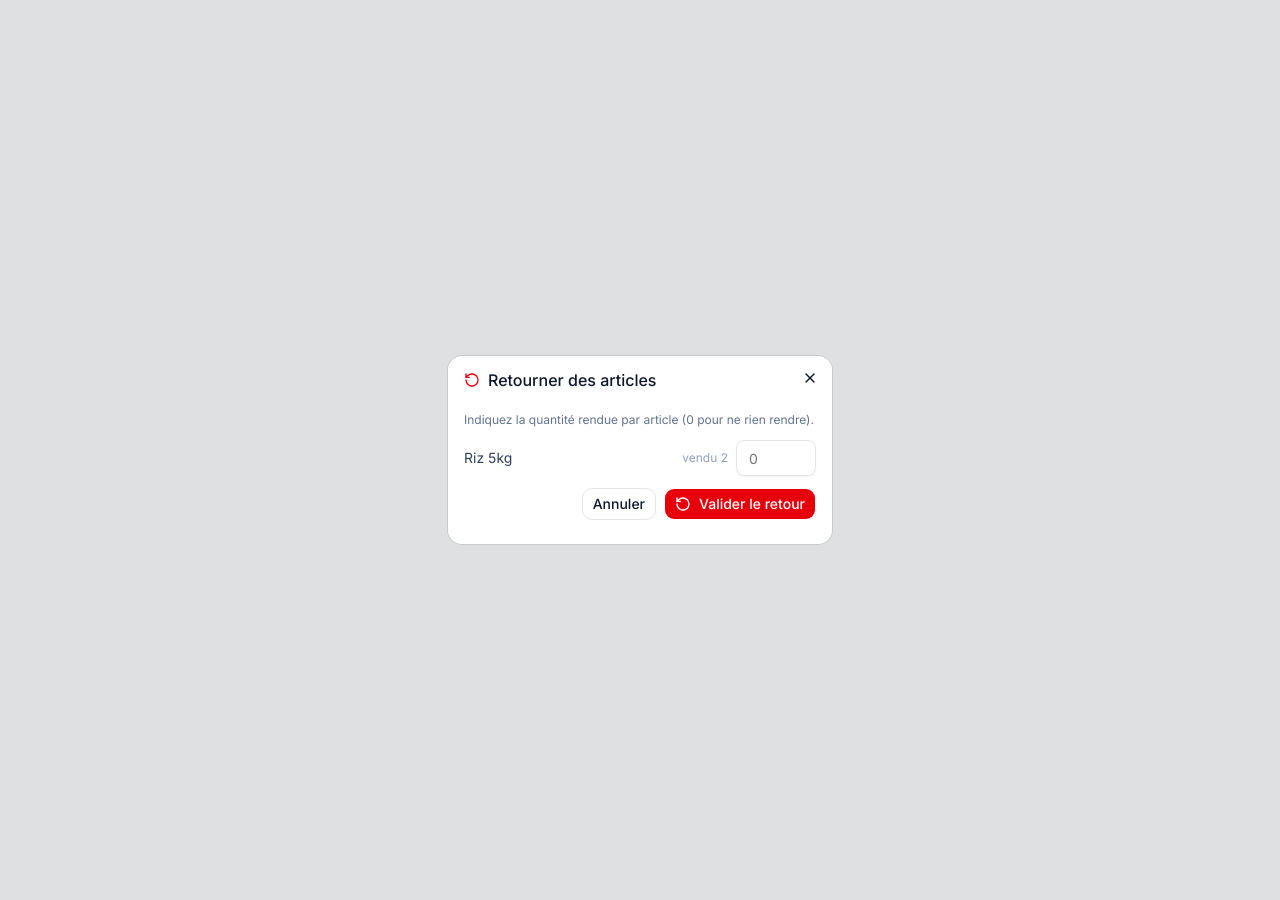
ReturnSaleModal › refuse une quantité supérieure au vendu sans appeler la RPC
This screenshot has width=1280, height=900.
Type "5" into the field named "Quantité retournée Riz 5kg" at (776, 458), box x1=736 y1=440 x2=816 y2=476
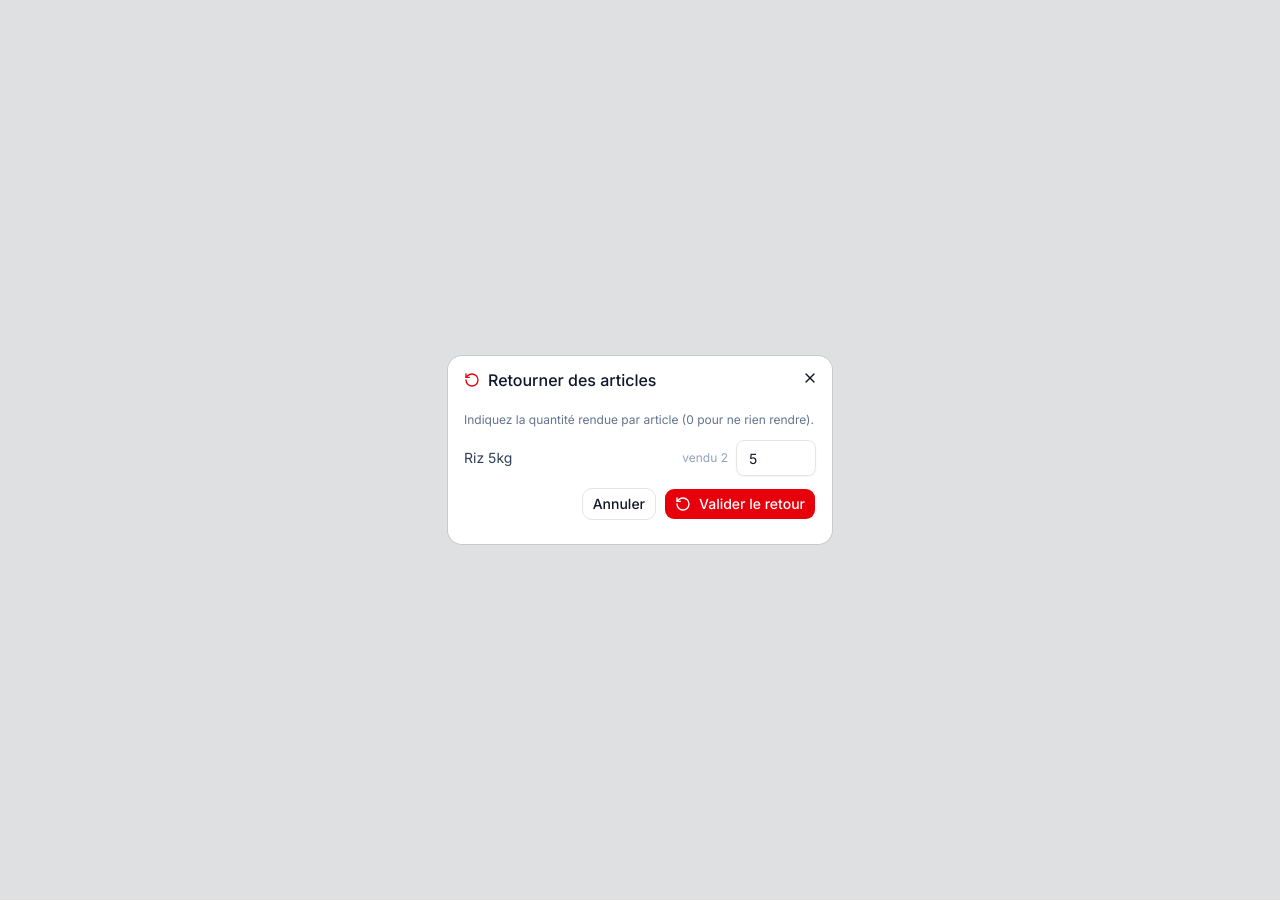
Click the button "Valider le retour" at (740, 504), box x1=664 y1=488 x2=816 y2=520
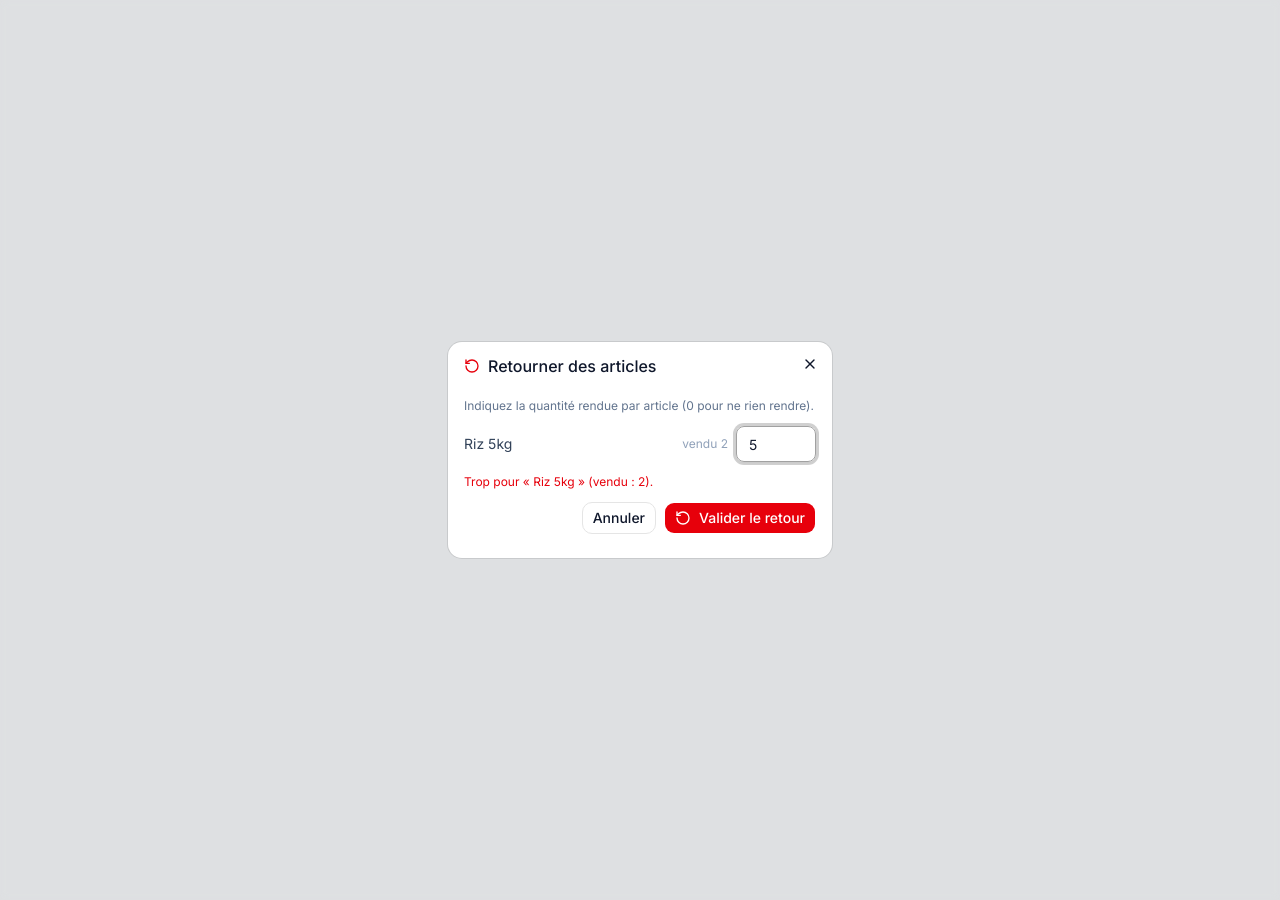
Expected: the text "Trop pour « Riz 5kg » (vendu : 2)." is shown, x1=464 y1=474 x2=653 y2=489
